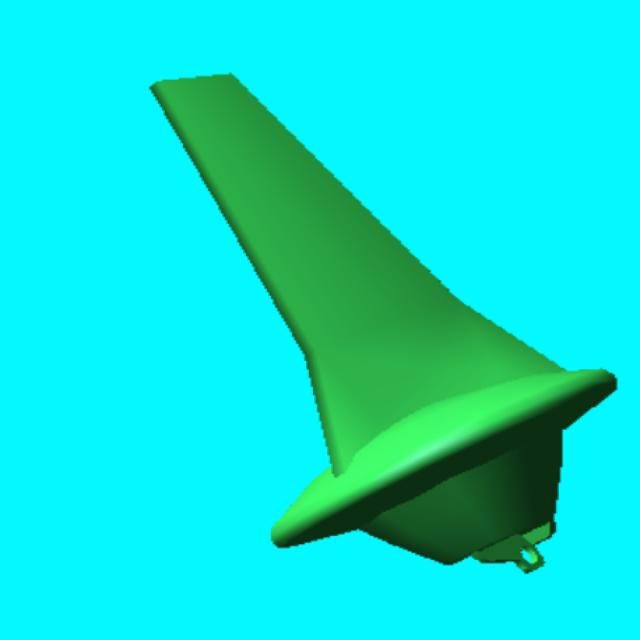GreenBuoy: (153, 76, 616, 563)
